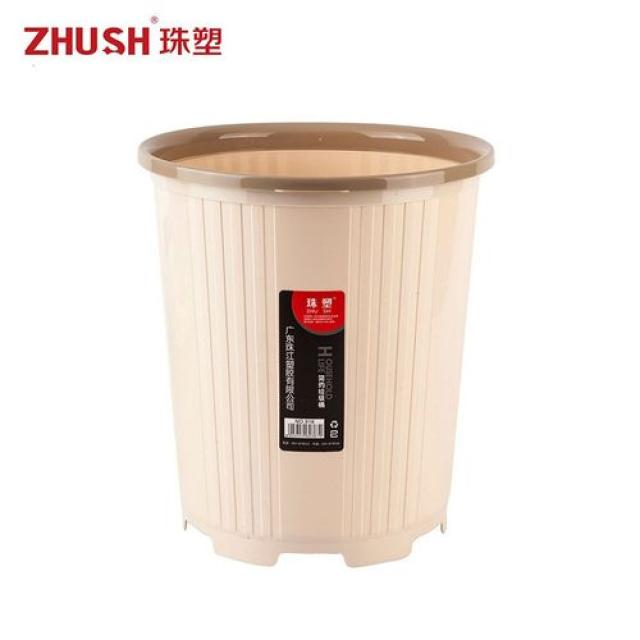dustbin: (132, 115, 501, 576)
